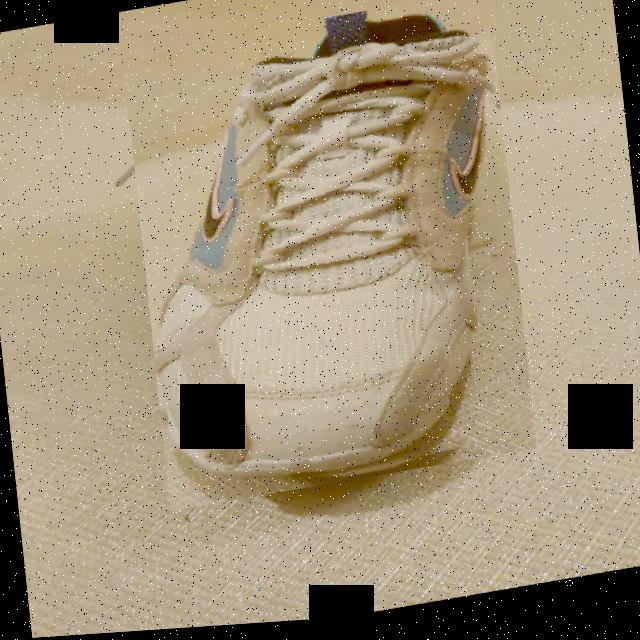shoe: (121, 0, 536, 516)
